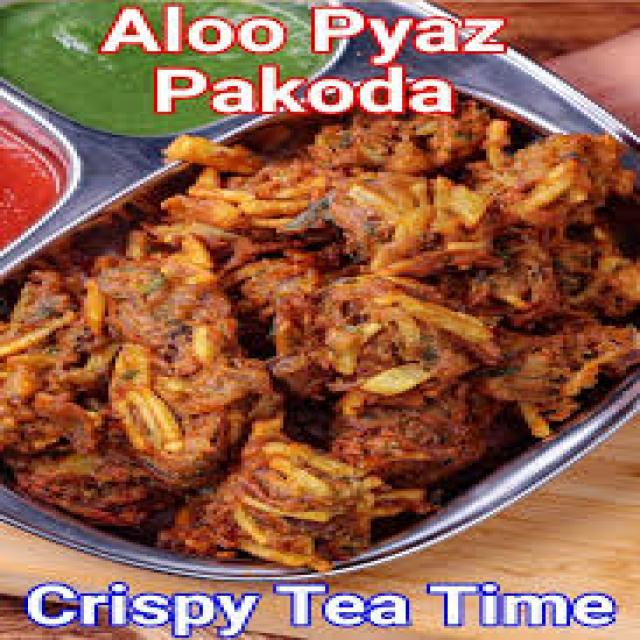BAJI: (0, 86, 637, 570)
